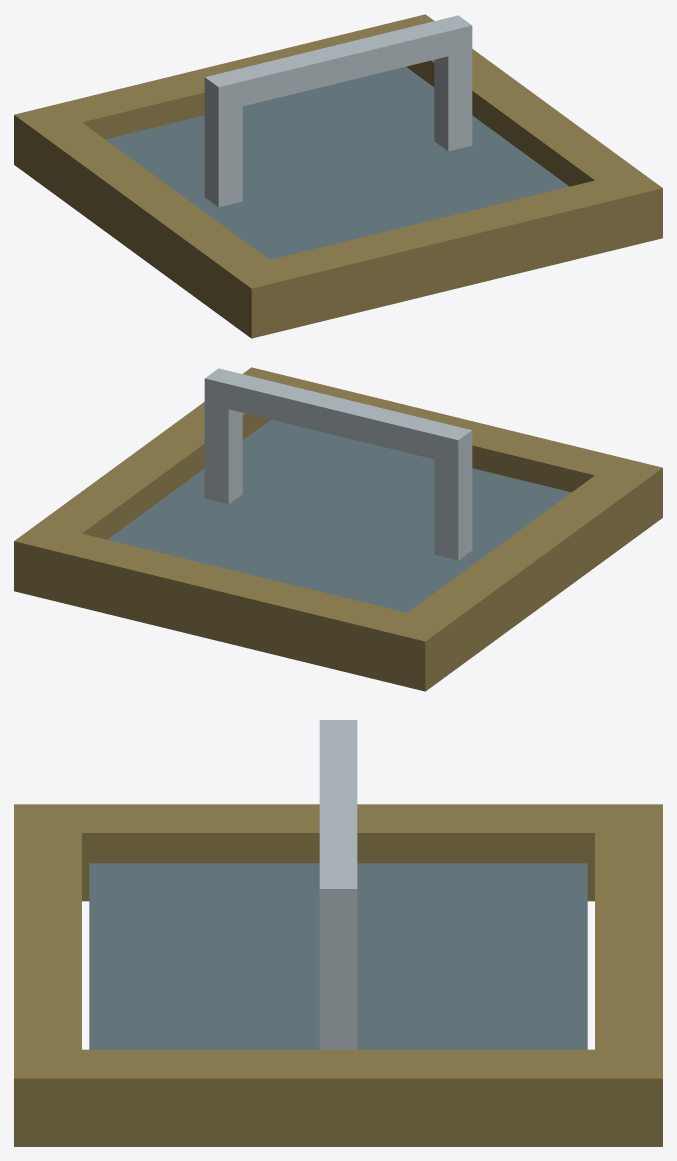
The model's file is body.obj.
3 views of the same model, one above another, from view 1: azimuth 30°, elevation 25°; view 2: azimuth 150°, elevation 25°; view 3: azimuth 270°, elevation 25° (orthographic). The views are drawn at different scales.
Bounding box in the file's own units: 0.86 × 0.3 × 0.86.
